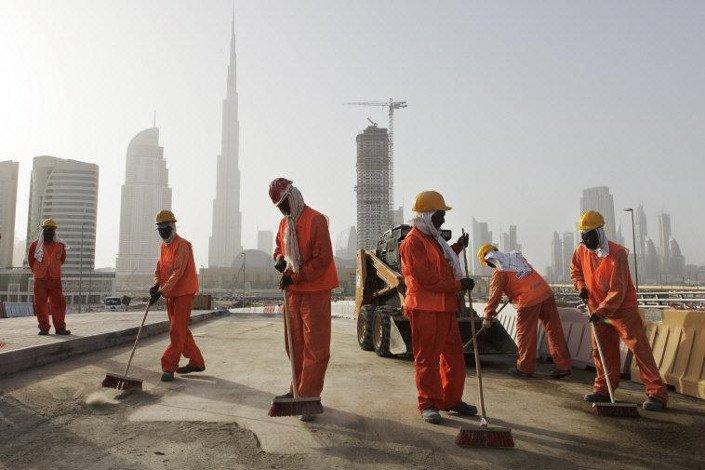helmet: (411, 190, 456, 216), (267, 176, 294, 208), (578, 210, 609, 236), (476, 243, 500, 268), (152, 210, 179, 230), (39, 217, 61, 234)
